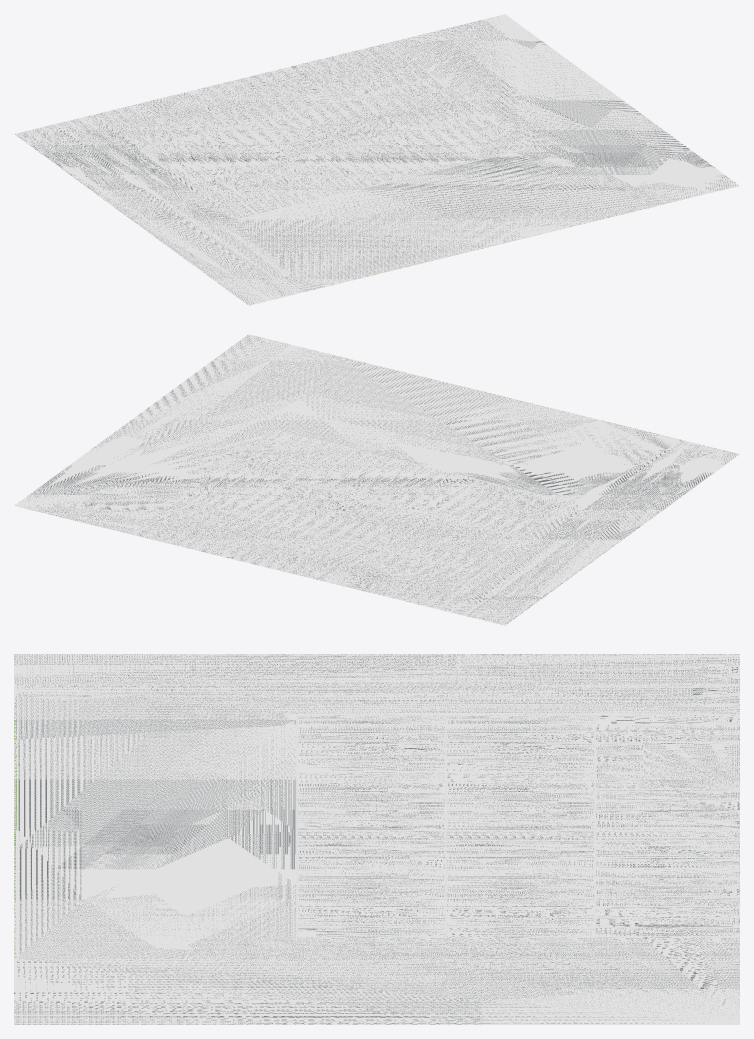
File: Parking Lot 1_v2.dae
The picture shows the model from 3 angles, top to bottom: view 1: azimuth 30°, elevation 25°; view 2: azimuth 150°, elevation 25°; view 3: azimuth 270°, elevation 25°; orthographic projection. The views are drawn at different scales.
Parts seen in each view (by area): view 1: SketchUp (×5); view 2: SketchUp (×5); view 3: SketchUp (×5).
Boxes of the visible parts, x1=… form: SketchUp (×5): x1=14, y1=14, x2=739, y2=305; SketchUp (×5): x1=14, y1=334, x2=739, y2=625; SketchUp (×5): x1=14, y1=654, x2=739, y2=1024.
Bounding box in the file's own units: 168 × 139 × 0.
